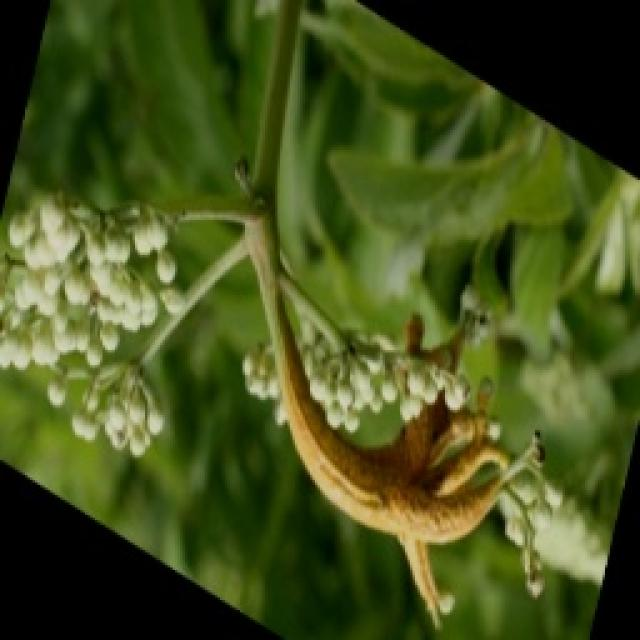Elderberry_rust: (276, 355, 556, 581)
